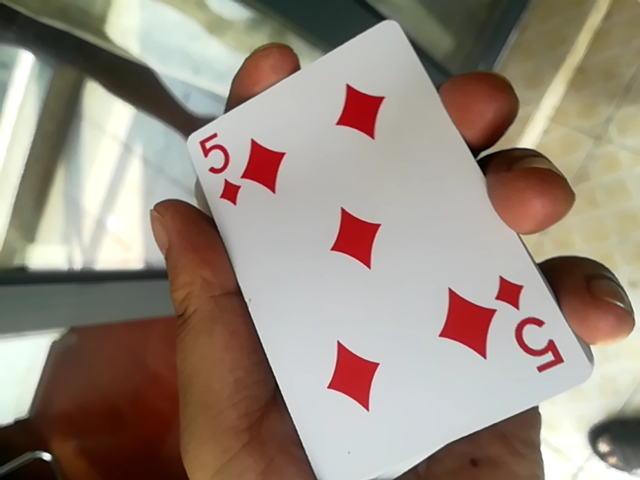fk 5: (163, 11, 579, 474)
